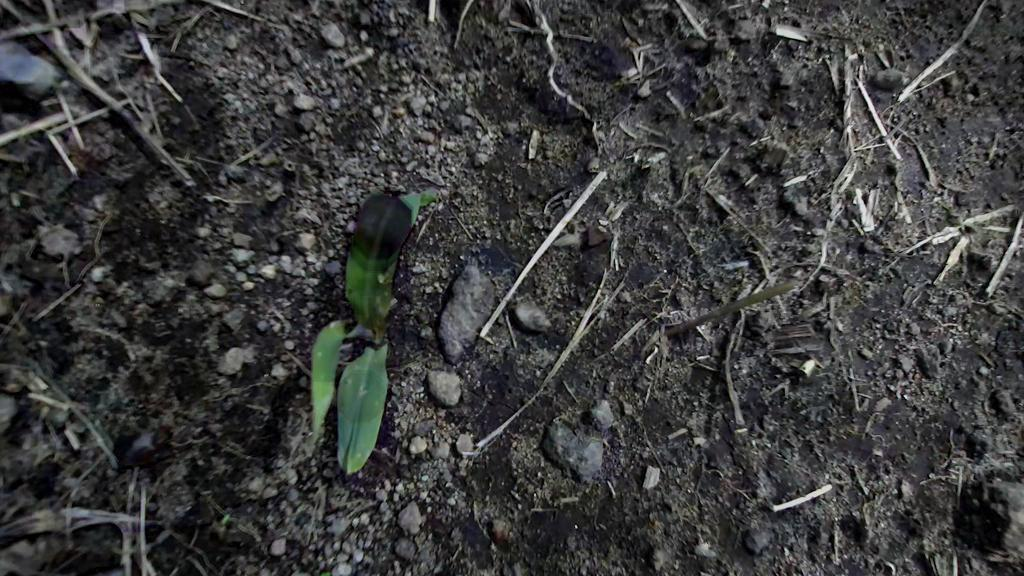BroWeed: (554, 221, 587, 253), (601, 193, 629, 223), (664, 86, 689, 119), (99, 9, 133, 33), (633, 77, 658, 102), (139, 107, 162, 133), (788, 358, 817, 378), (564, 210, 590, 230), (54, 131, 72, 158), (593, 121, 606, 157), (207, 521, 228, 541), (189, 49, 211, 67), (901, 479, 914, 503), (219, 511, 231, 527), (484, 334, 497, 345), (319, 571, 331, 576)
Maize: (284, 168, 442, 480)
NarWeed: (662, 276, 792, 340)
